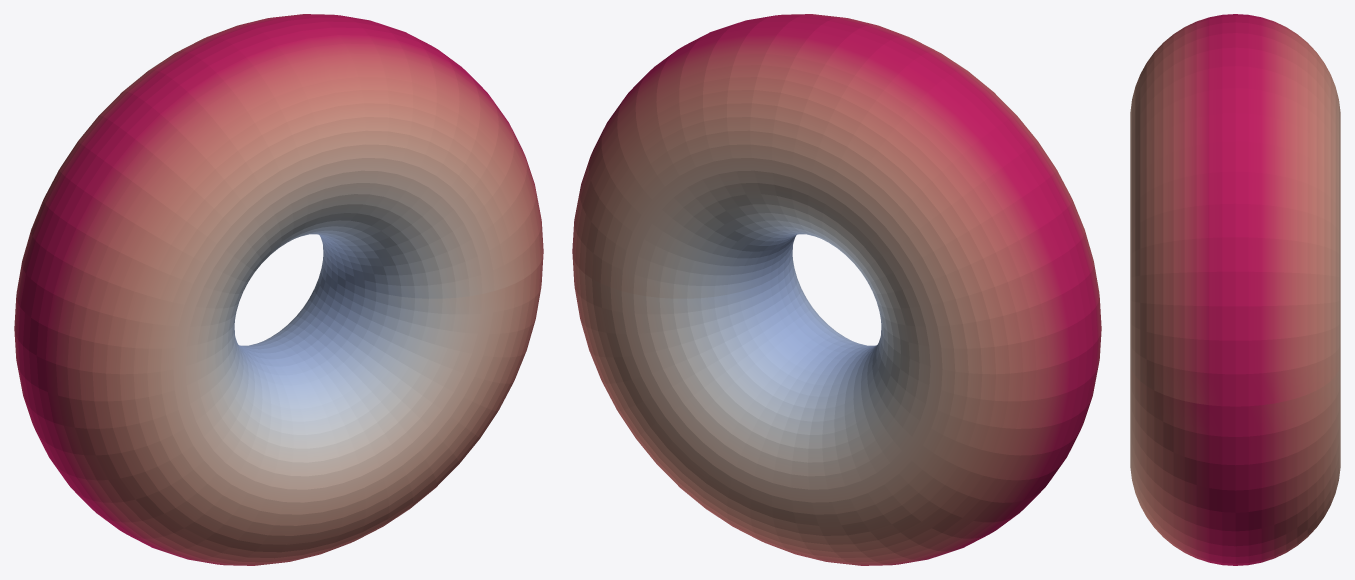
The picture shows the model from 3 angles, left to right: view 1: azimuth 30°, elevation 25°; view 2: azimuth 150°, elevation 25°; view 3: azimuth 270°, elevation 25°; orthographic projection. The views are drawn at different scales.
Visible parts, largest first — view 1: world; view 2: world; view 3: world.
Boxes of the visible parts, box(x1,y1,x2,y2) form: world: box(14, 14, 543, 565); world: box(572, 14, 1101, 565); world: box(1130, 14, 1340, 565).
Bounding box in the file's own units: 24.8 × 24.75 × 9.45.
